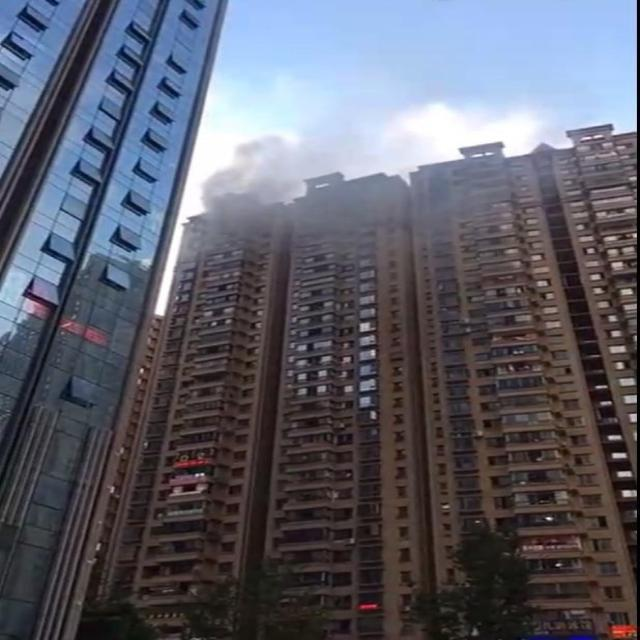Smoke: (198, 132, 308, 238)
